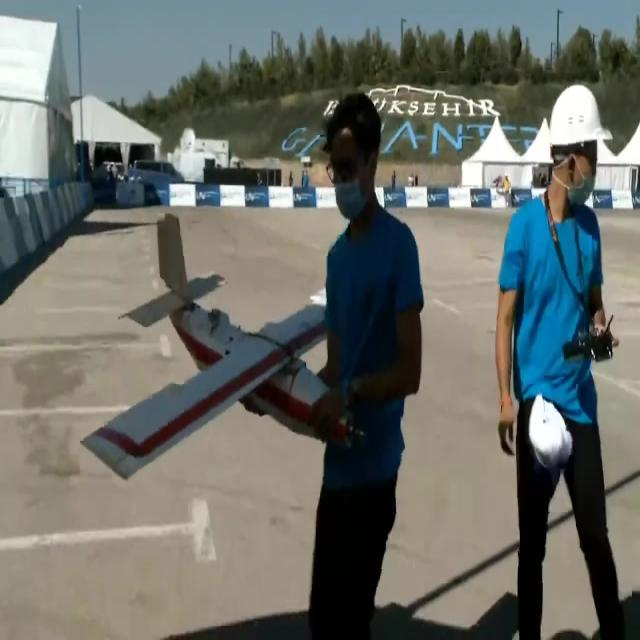iha: (79, 206, 368, 482)
